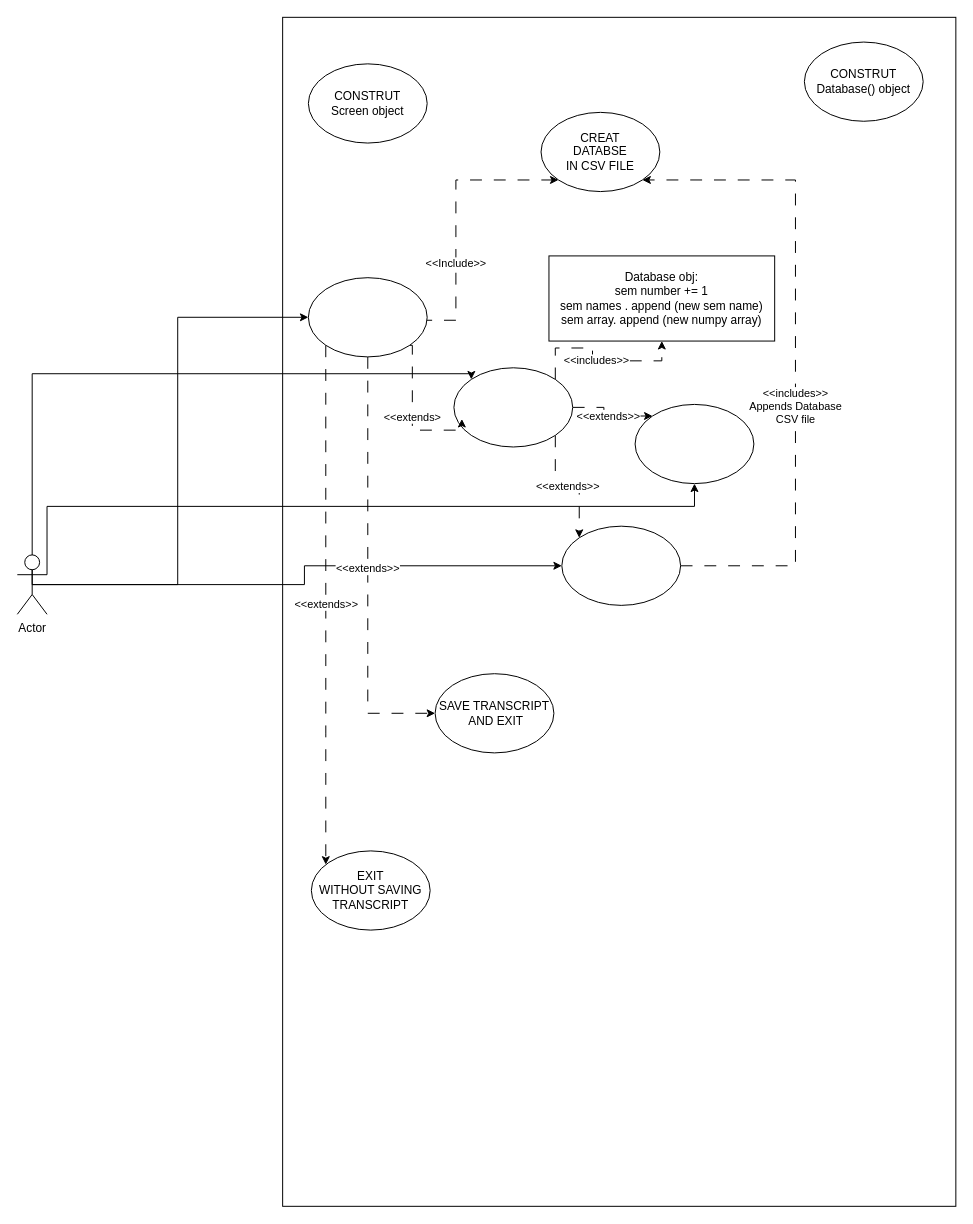
The diagram is 973 pixels wide and 1224 high, and some of its shapes have lost their labels. Each missing label, with the box of its shape:
ADD Course: (634, 403, 754, 484)
ADD SEMESTER: (453, 367, 573, 447)
CREATE TRANSCRIPT: (307, 277, 427, 357)
SAVE and EXIT: (561, 525, 681, 605)
